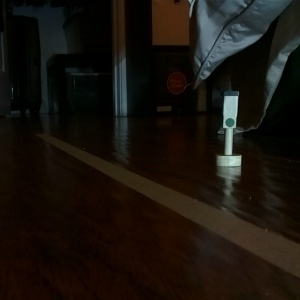traffic light green: (214, 88, 243, 170)
